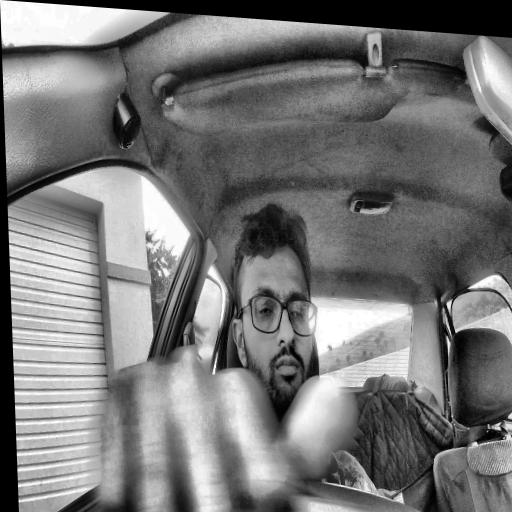drowsy: (227, 201, 322, 427)
